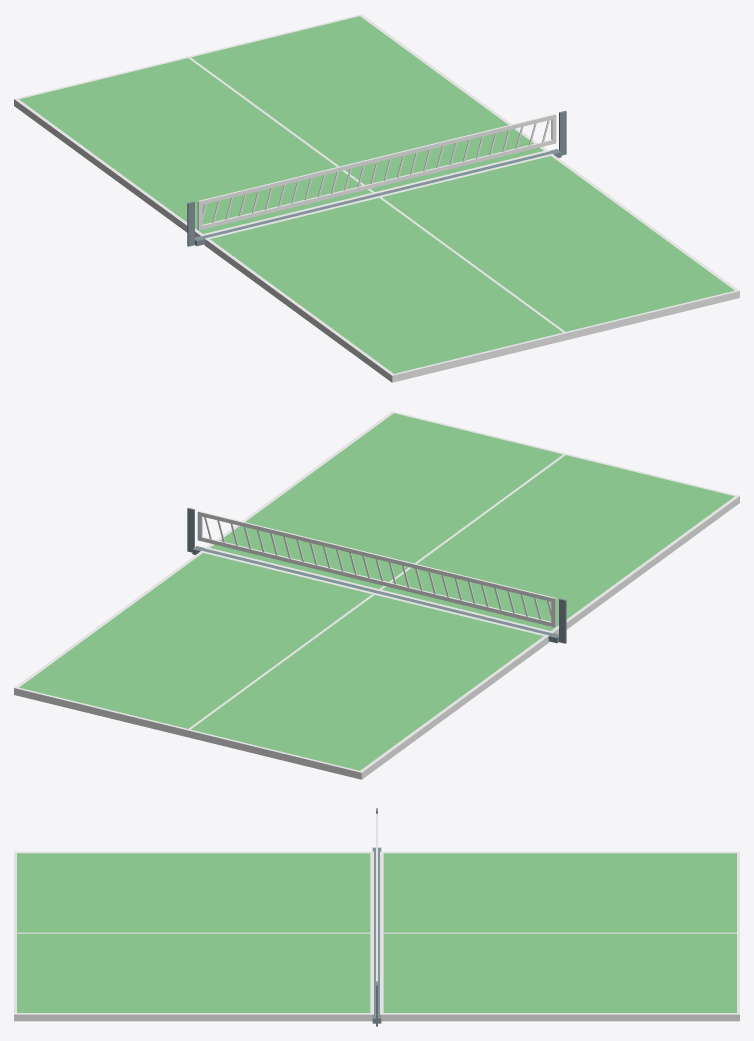
The model's file is tennis.fbx.
The picture shows the model from 3 angles, top to bottom: view 1: azimuth 30°, elevation 25°; view 2: azimuth 150°, elevation 25°; view 3: azimuth 270°, elevation 25°; orthographic projection. The views are drawn at different scales.
Visible parts, largest first — view 1: Table_Tennis_Table_Cube.032; view 2: Table_Tennis_Table_Cube.032; view 3: Table_Tennis_Table_Cube.032.
Part boxes in pixels (x1=…): Table_Tennis_Table_Cube.032: x1=14, y1=14, x2=739, y2=382; Table_Tennis_Table_Cube.032: x1=14, y1=411, x2=739, y2=779; Table_Tennis_Table_Cube.032: x1=14, y1=808, x2=739, y2=1026.
Size of the model in its own units: 271 by 30.63 by 469.
